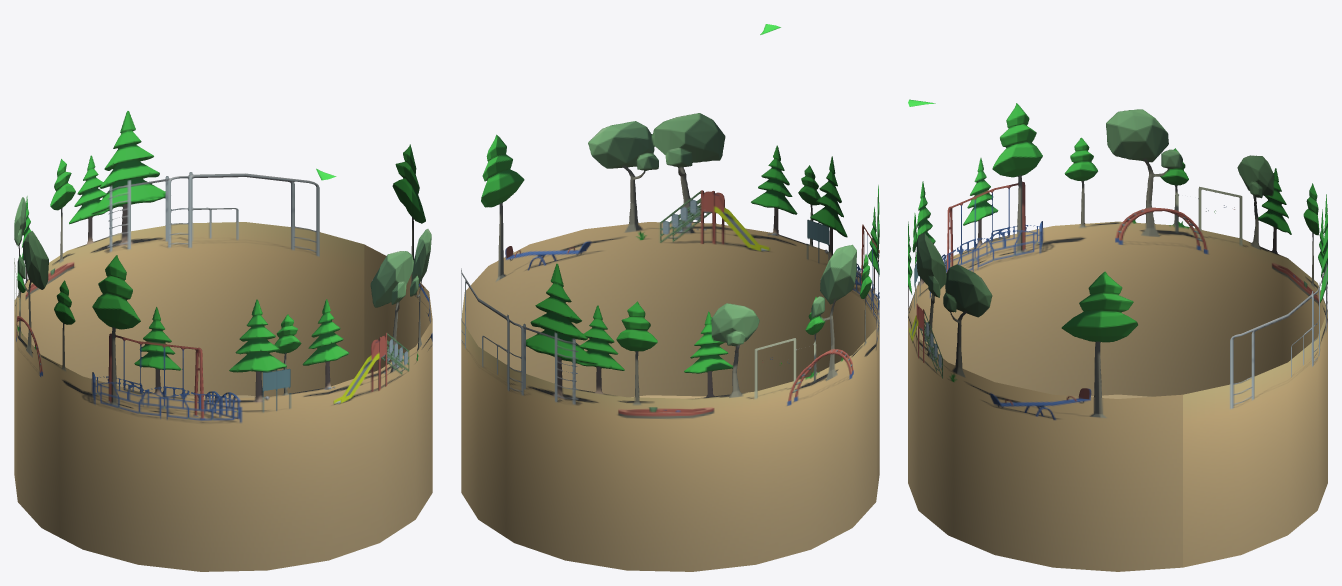
The model's file is BackGround1.fbx.
The picture shows the model from 3 angles, left to right: view 1: azimuth 30°, elevation 25°; view 2: azimuth 150°, elevation 25°; view 3: azimuth 270°, elevation 25°; orthographic projection.
Parts seen in each view (by area): view 1: pCylinder1; view 2: pCylinder1; view 3: pCylinder1.
Part boxes in pixels (x1=…): pCylinder1: x1=14, y1=111, x2=432, y2=571; pCylinder1: x1=461, y1=24, x2=879, y2=571; pCylinder1: x1=908, y1=99, x2=1327, y2=571.
Bounding box in the file's own units: 44.12 × 44.12 × 44.12.
1 material, 1 textured.
